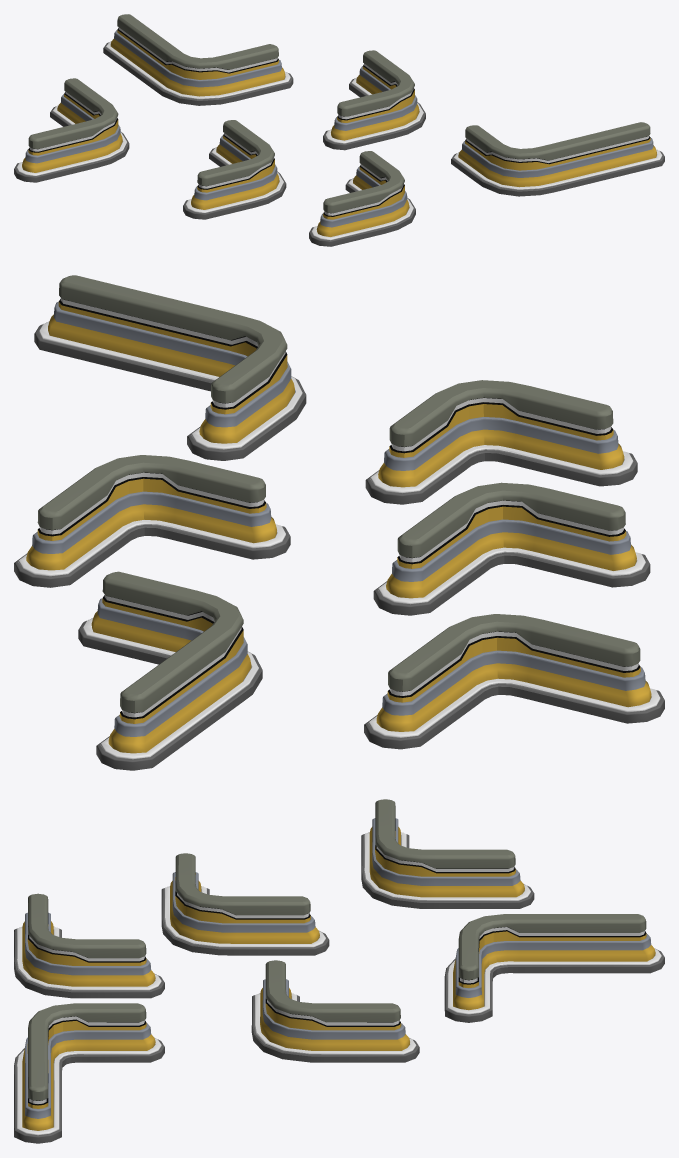
Rendered from Bonus_Level3_Small_walls.fbx.
3 renders of one model, top to bottom at view 1: azimuth 30°, elevation 25°; view 2: azimuth 150°, elevation 25°; view 3: azimuth 270°, elevation 25°, orthographic. The views are drawn at different scales.
Visible parts, largest first — view 1: Small_wall_L27, Small_wall_L26, Small_wall_L31, Small_wall_L29, Small_wall_L30, Small_wall_L28; view 2: Small_wall_L27, Small_wall_L31, Small_wall_L26, Small_wall_L30, Small_wall_L29, Small_wall_L28; view 3: Small_wall_L26, Small_wall_L27, Small_wall_L31, Small_wall_L30, Small_wall_L29, Small_wall_L28.
Part boxes in pixels (left/top/right/bottom): Small_wall_L27: left=451, top=122, right=664, bottom=196; Small_wall_L26: left=103, top=14, right=293, bottom=105; Small_wall_L31: left=14, top=78, right=129, bottom=182; Small_wall_L29: left=323, top=50, right=425, bottom=150; Small_wall_L30: left=183, top=120, right=286, bottom=219; Small_wall_L28: left=309, top=151, right=415, bottom=246; Small_wall_L27: left=34, top=275, right=306, bottom=460; Small_wall_L31: left=364, top=614, right=664, bottom=749; Small_wall_L26: left=78, top=571, right=262, bottom=770; Small_wall_L30: left=373, top=482, right=650, bottom=615; Small_wall_L29: left=14, top=455, right=290, bottom=587; Small_wall_L28: left=365, top=380, right=637, bottom=504; Small_wall_L26: left=444, top=914, right=664, bottom=1022; Small_wall_L27: left=14, top=1003, right=164, bottom=1143; Small_wall_L31: left=361, top=799, right=534, bottom=908; Small_wall_L30: left=161, top=853, right=329, bottom=955; Small_wall_L29: left=251, top=960, right=419, bottom=1062; Small_wall_L28: left=14, top=893, right=164, bottom=998.
Size of the model in its own units: 522 by 37.08 by 467.
